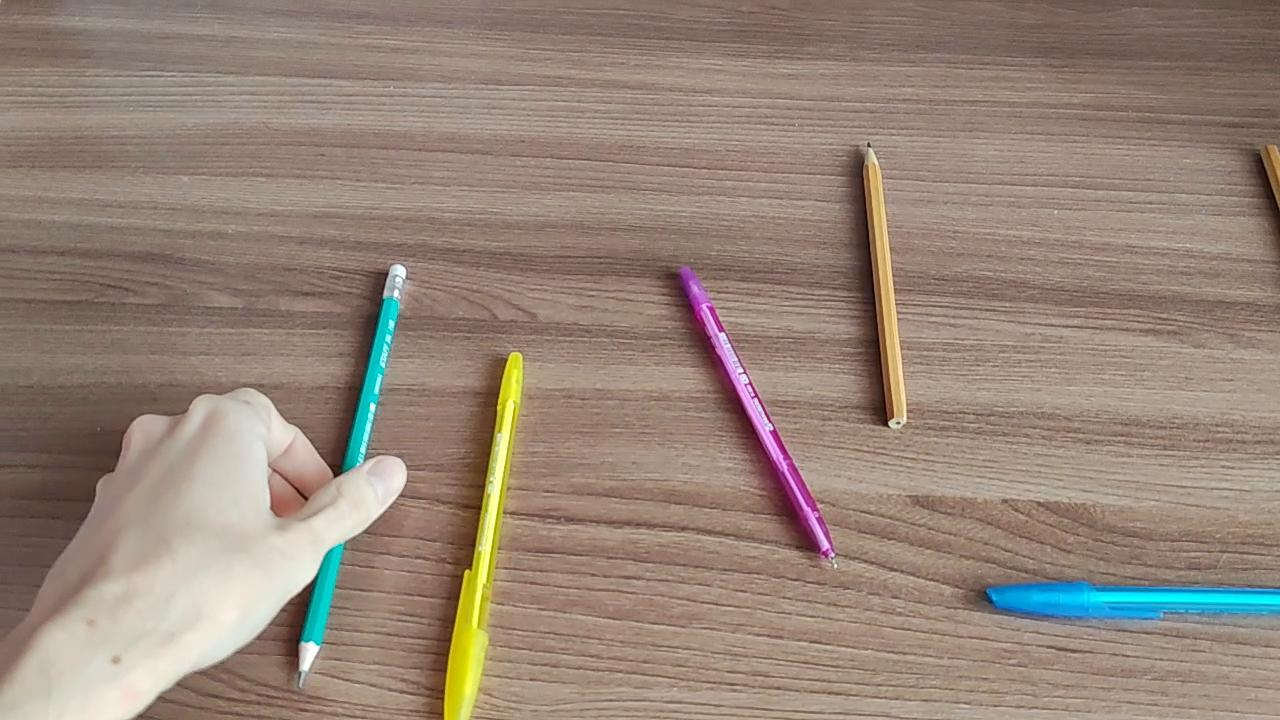pen: (667, 260, 841, 572), (440, 347, 529, 720), (976, 577, 1280, 622)
pencil: (295, 259, 411, 691), (860, 135, 911, 433)
